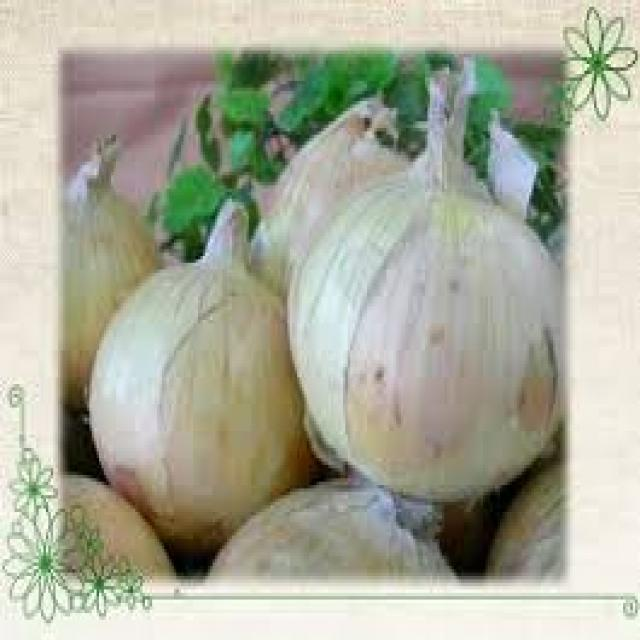organic waste: (283, 61, 565, 502), (142, 47, 558, 256), (82, 192, 314, 552), (200, 451, 459, 576), (65, 131, 152, 401), (60, 468, 174, 580), (481, 451, 565, 576), (157, 162, 227, 239)
